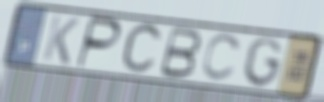B: (157, 25, 204, 80)
C: (118, 21, 165, 77), (199, 33, 245, 84)
G: (241, 36, 285, 89)
K: (40, 13, 82, 67)
P: (74, 15, 124, 71)
